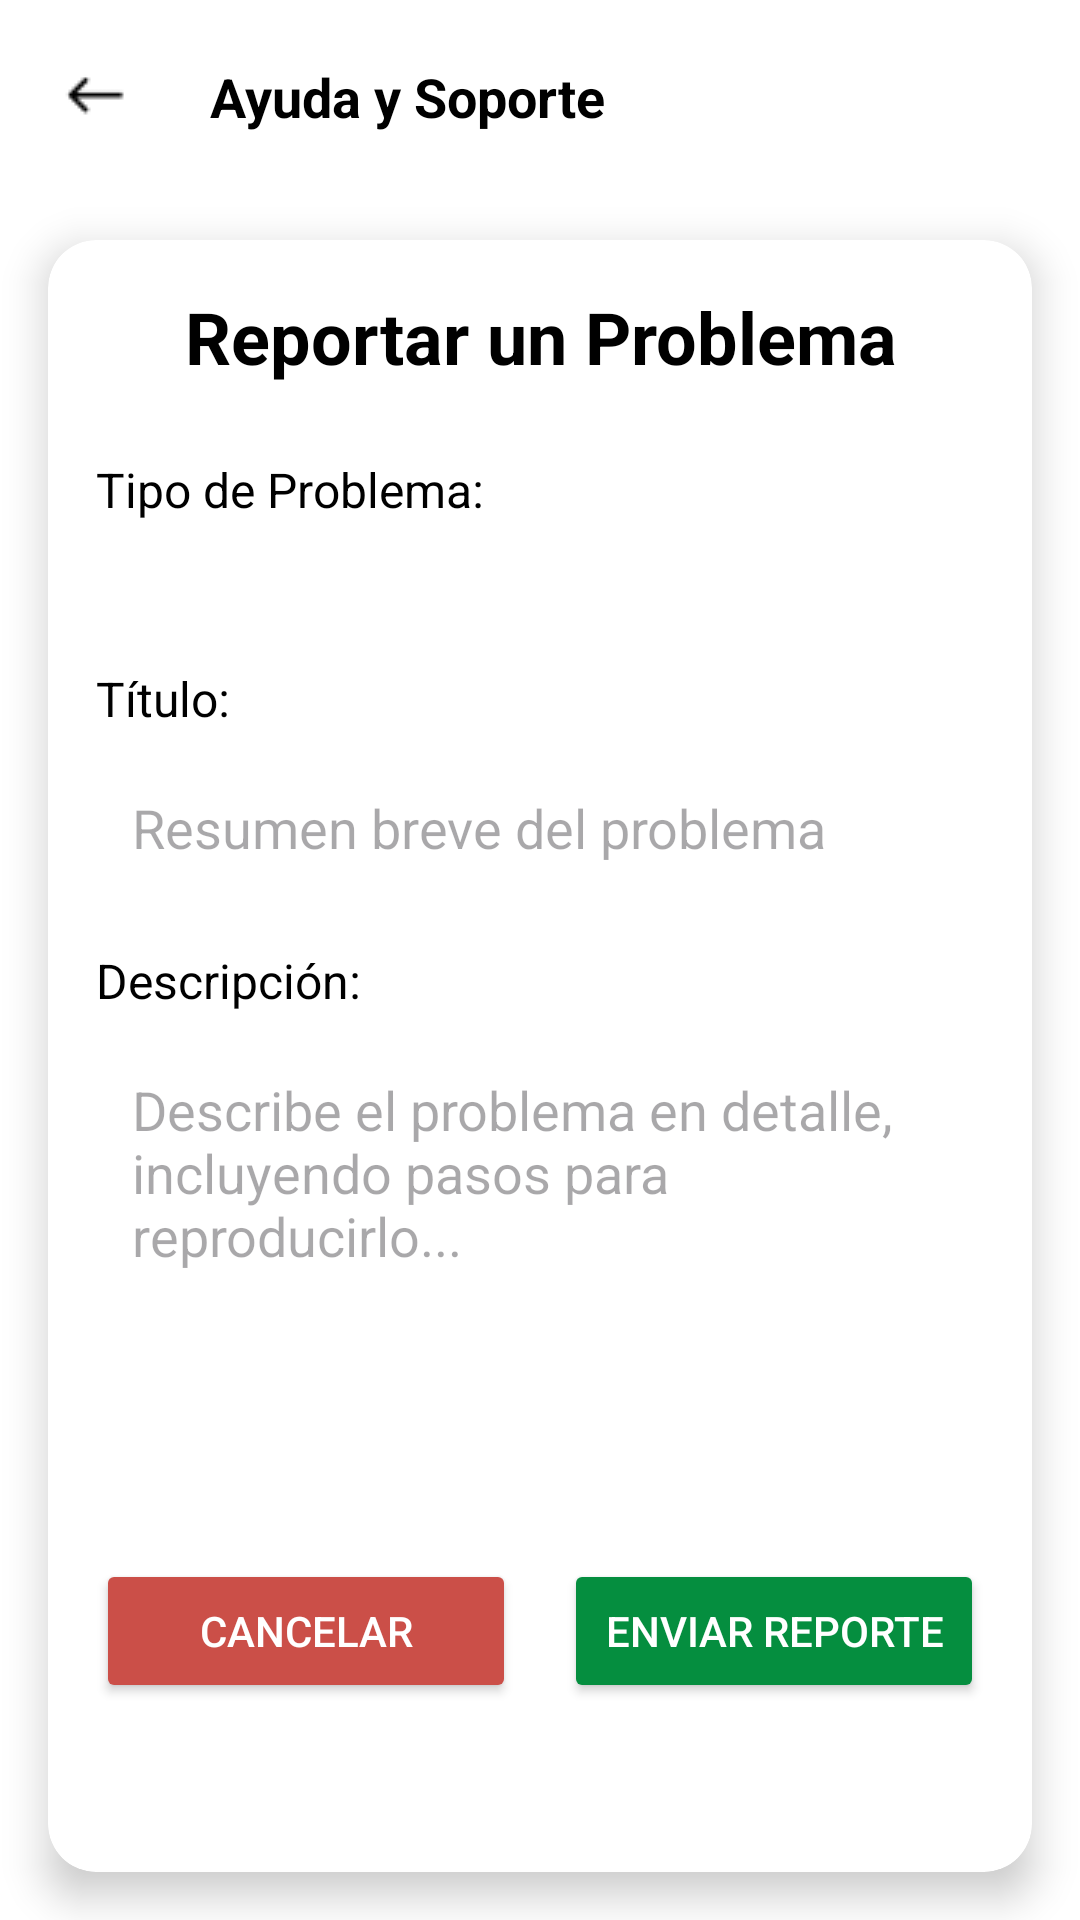

Where to tap for icons on this 1080px x 1920px app screen, as point (x, y):
flecha: point (96, 96)
